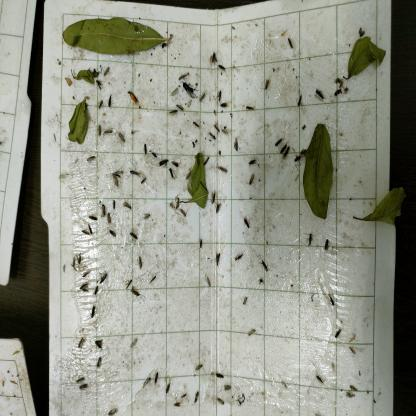prays_oleae: (324, 232, 336, 266), (292, 90, 305, 115), (110, 166, 124, 189), (90, 78, 104, 100), (316, 80, 326, 108), (314, 372, 328, 392), (349, 379, 361, 402), (328, 288, 340, 310), (262, 76, 274, 97), (260, 256, 270, 280), (286, 34, 296, 57), (126, 228, 138, 246), (201, 271, 213, 289), (232, 248, 244, 266), (130, 288, 144, 303), (198, 87, 206, 113), (303, 231, 316, 247), (136, 252, 146, 272), (223, 376, 237, 390), (279, 142, 291, 158), (215, 198, 226, 215), (217, 60, 230, 74), (96, 100, 106, 118), (214, 364, 226, 379), (231, 136, 241, 154), (172, 194, 182, 212), (217, 390, 228, 406), (247, 98, 258, 114), (283, 144, 291, 166), (99, 200, 108, 219), (158, 155, 168, 172), (79, 281, 88, 298), (140, 375, 150, 390), (168, 104, 178, 119), (190, 118, 200, 133), (198, 234, 208, 249), (84, 223, 96, 235), (96, 355, 104, 373), (76, 374, 88, 386), (79, 378, 88, 394), (173, 396, 182, 412), (110, 226, 119, 242), (142, 140, 150, 158), (179, 208, 189, 222), (139, 174, 147, 191), (216, 88, 224, 105), (131, 165, 140, 180), (193, 360, 202, 375), (168, 85, 178, 98), (103, 63, 111, 79), (164, 378, 172, 394), (168, 166, 176, 182), (210, 51, 218, 67), (91, 302, 98, 320), (193, 388, 200, 406), (212, 120, 221, 134), (122, 200, 132, 212), (248, 173, 258, 185), (218, 164, 228, 176), (243, 216, 253, 228), (152, 372, 159, 388), (209, 130, 216, 146), (250, 154, 258, 168), (92, 283, 102, 294), (76, 335, 86, 346), (178, 102, 188, 113), (96, 122, 102, 140), (209, 191, 216, 206), (112, 201, 120, 214), (172, 158, 180, 171), (332, 330, 340, 343), (98, 273, 109, 282), (144, 210, 153, 221), (118, 131, 125, 145), (101, 128, 113, 136), (82, 270, 94, 278), (220, 100, 228, 112), (276, 136, 284, 148), (75, 254, 84, 264), (105, 408, 119, 414), (96, 339, 104, 349), (153, 146, 158, 162), (88, 212, 99, 219), (82, 229, 90, 238), (107, 96, 112, 110), (214, 250, 219, 264), (107, 210, 110, 224)
